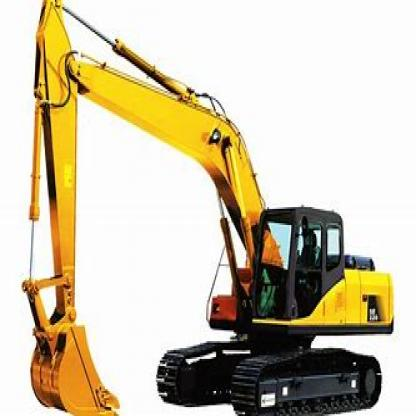excavator: (19, 4, 388, 414)
